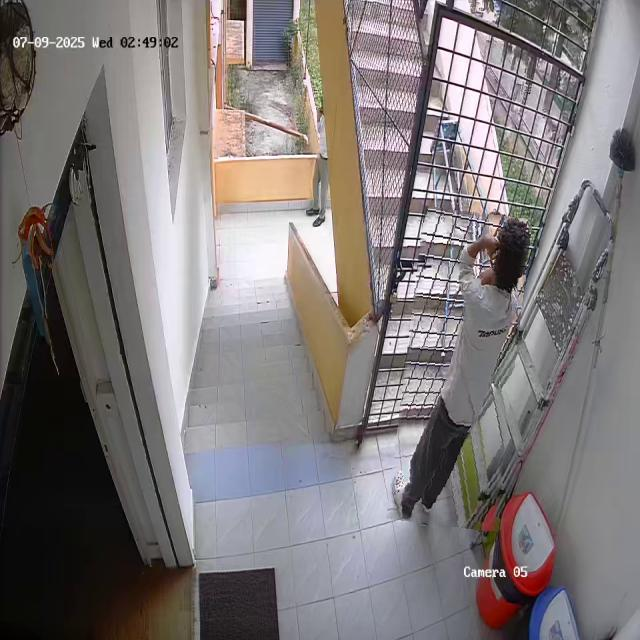person: (396, 208, 523, 529)
